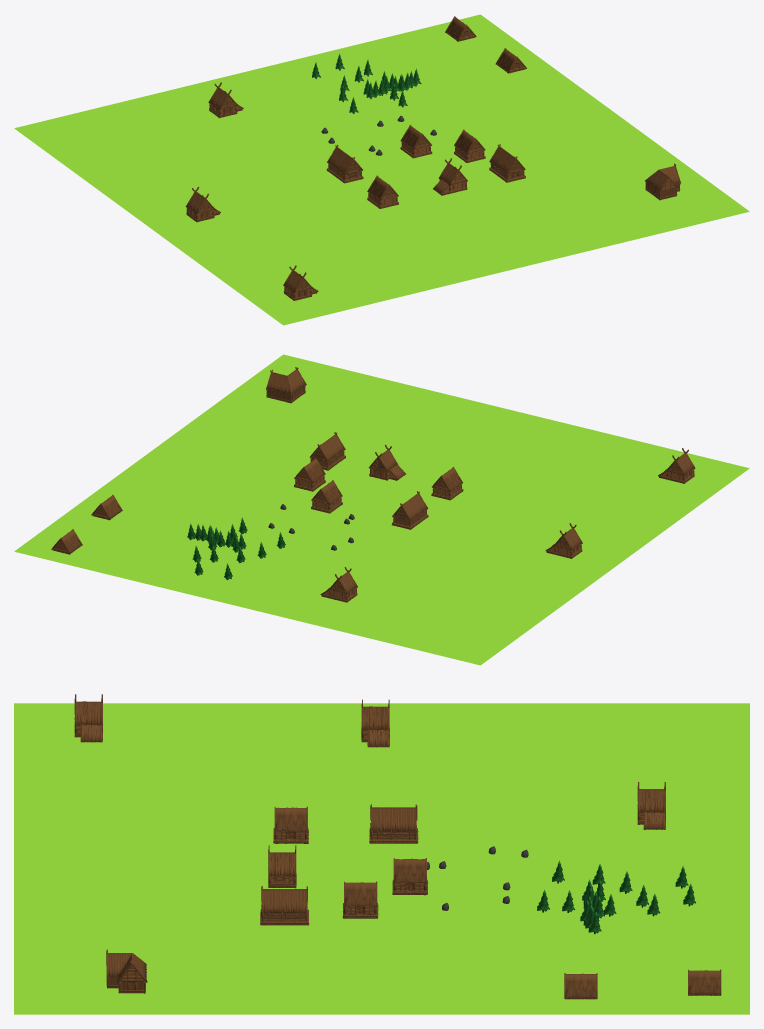
File: MyMap3.glb
3 renders of one model, top to bottom at view 1: azimuth 30°, elevation 25°; view 2: azimuth 150°, elevation 25°; view 3: azimuth 270°, elevation 25°, orthographic. The views are drawn at different scales.
Parts seen in each view (by area): view 1: Prostokąt, rpgpp_lt_building_05, rpgpp_lt_building_01.001, rpgpp_lt_building_01, rpgpp_lt_building_03.003, rpgpp_lt_building_04.001, rpgpp_lt_building_04, rpgpp_lt_building_04.002, rpgpp_lt_building_03, rpgpp_lt_building_03.002, rpgpp_lt_building_03.001; view 2: Prostokąt, rpgpp_lt_building_05, rpgpp_lt_building_01, rpgpp_lt_building_01.001, rpgpp_lt_building_03.003, rpgpp_lt_building_03.002, rpgpp_lt_building_03, rpgpp_lt_building_03.001, rpgpp_lt_building_04.002, rpgpp_lt_building_04, rpgpp_lt_building_04.001; view 3: Prostokąt, rpgpp_lt_building_01, rpgpp_lt_building_01.001, rpgpp_lt_building_05, rpgpp_lt_building_04.002, rpgpp_lt_building_04, rpgpp_lt_building_04.001, rpgpp_lt_building_03.002, rpgpp_lt_building_03.001, rpgpp_lt_building_03, rpgpp_lt_building_03.003, rpgpp_lt_building_02 (+1 smaller).
Boxes of the visible parts, bbox=[...] form: Prostokąt: bbox=[14, 14, 749, 325]; rpgpp_lt_building_05: bbox=[645, 163, 680, 200]; rpgpp_lt_building_01.001: bbox=[489, 144, 525, 182]; rpgpp_lt_building_01: bbox=[326, 144, 363, 183]; rpgpp_lt_building_03.003: bbox=[433, 158, 467, 195]; rpgpp_lt_building_04.001: bbox=[400, 124, 432, 158]; rpgpp_lt_building_04: bbox=[367, 175, 398, 208]; rpgpp_lt_building_04.002: bbox=[454, 129, 485, 162]; rpgpp_lt_building_03: bbox=[208, 82, 243, 118]; rpgpp_lt_building_03.002: bbox=[283, 265, 318, 300]; rpgpp_lt_building_03.001: bbox=[185, 186, 220, 222]; Prostokąt: bbox=[14, 354, 749, 665]; rpgpp_lt_building_05: bbox=[266, 367, 306, 403]; rpgpp_lt_building_01: bbox=[391, 491, 428, 529]; rpgpp_lt_building_01.001: bbox=[309, 432, 345, 470]; rpgpp_lt_building_03.003: bbox=[368, 444, 405, 480]; rpgpp_lt_building_03.002: bbox=[658, 448, 695, 483]; rpgpp_lt_building_03: bbox=[320, 567, 357, 602]; rpgpp_lt_building_03.001: bbox=[545, 523, 582, 558]; rpgpp_lt_building_04.002: bbox=[294, 458, 325, 491]; rpgpp_lt_building_04: bbox=[431, 467, 463, 500]; rpgpp_lt_building_04.001: bbox=[311, 480, 342, 513]; Prostokąt: bbox=[14, 703, 749, 1014]; rpgpp_lt_building_01: bbox=[369, 804, 418, 843]; rpgpp_lt_building_01.001: bbox=[260, 886, 309, 925]; rpgpp_lt_building_05: bbox=[106, 949, 147, 993]; rpgpp_lt_building_04.002: bbox=[342, 881, 378, 918]; rpgpp_lt_building_04: bbox=[273, 806, 308, 843]; rpgpp_lt_building_04.001: bbox=[392, 858, 427, 895]; rpgpp_lt_building_03.002: bbox=[74, 694, 102, 742]; rpgpp_lt_building_03.001: bbox=[361, 699, 389, 747]; rpgpp_lt_building_03: bbox=[637, 782, 665, 829]; rpgpp_lt_building_03.003: bbox=[268, 845, 296, 888]; rpgpp_lt_building_02: bbox=[564, 973, 597, 999].
Size of what is drawn, in the model's own units: 200 by 11.69 by 200.
